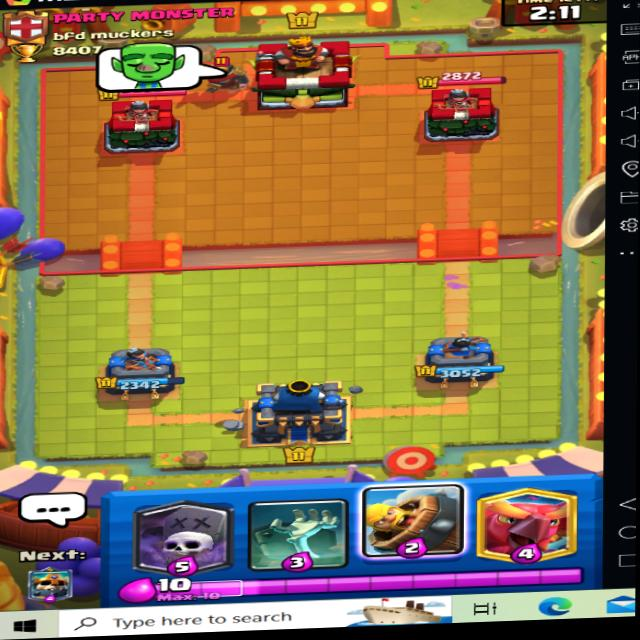knight: (196, 58, 254, 101)
